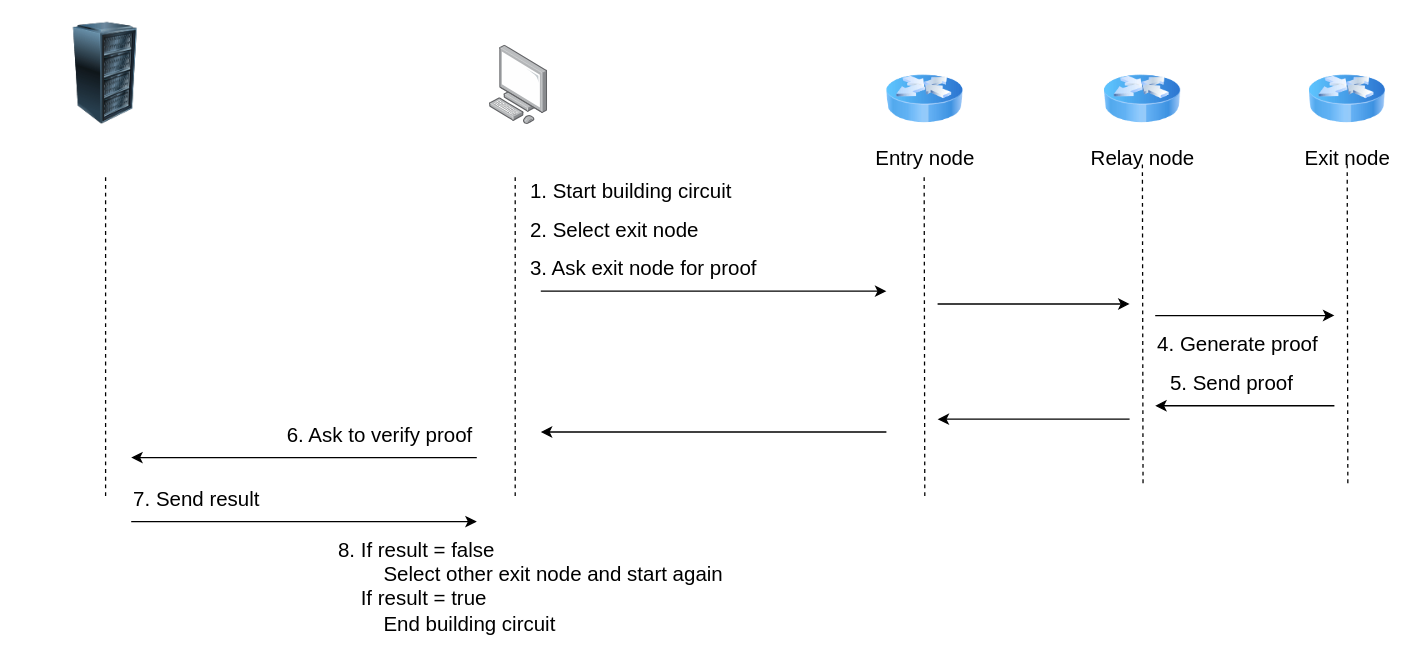
Image size: 1412x658. Some labels were removed from this diagram. The shapes that lost their labels are listed below. From the top down, each one's box as (x1, y1, x2, y2) in pixels, then its label:
(54, 22, 156, 124): Directory authority
(489, 45, 547, 124): Client
